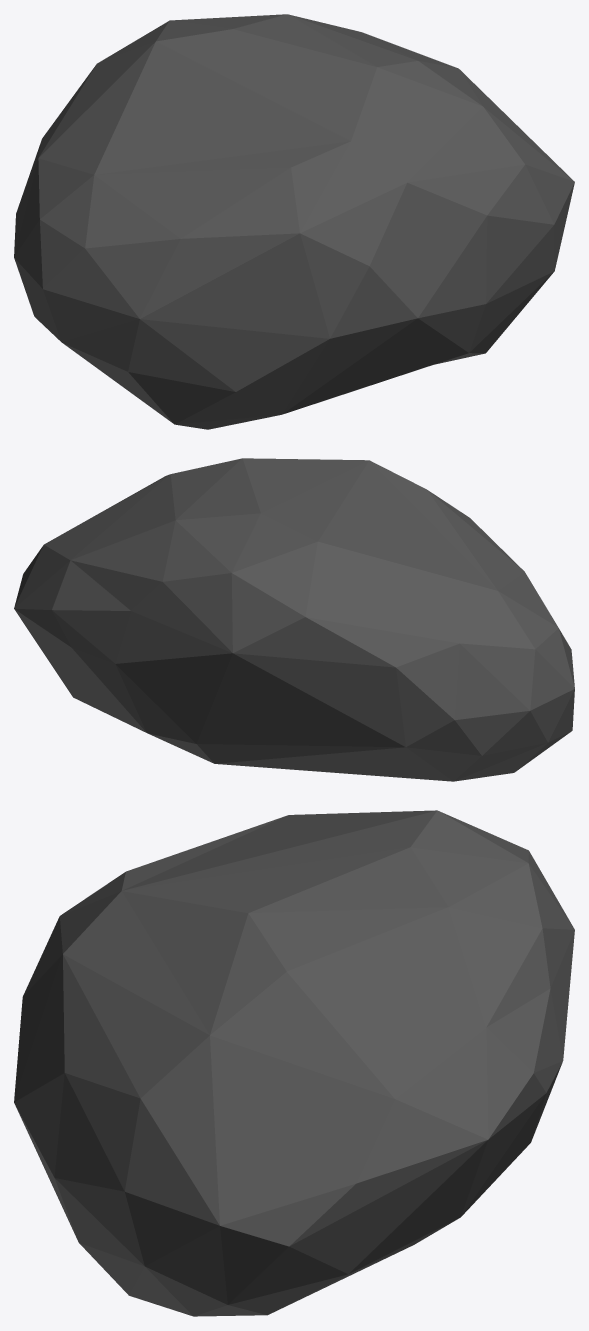
Rendered from stone5.fbx.
The picture shows the model from 3 angles, top to bottom: view 1: azimuth 30°, elevation 25°; view 2: azimuth 150°, elevation 25°; view 3: azimuth 270°, elevation 25°; orthographic projection. The views are drawn at different scales.
Visible parts, largest first — view 1: stone5; view 2: stone5; view 3: stone5.
Boxes of the visible parts, bbox=[...] form: stone5: bbox=[14, 14, 574, 429]; stone5: bbox=[14, 458, 574, 781]; stone5: bbox=[14, 810, 574, 1316].
Size of the model in its own units: 191 by 104 by 139.
